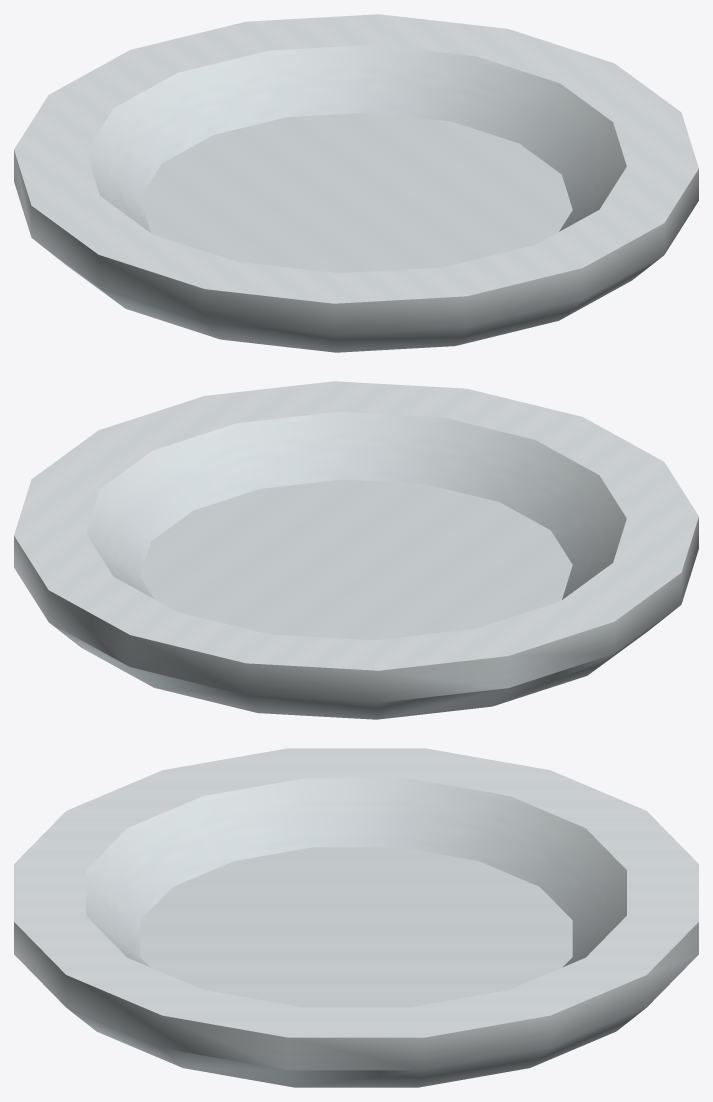
The model's file is plate.gltf.
The picture shows the model from 3 angles, top to bottom: view 1: azimuth 30°, elevation 25°; view 2: azimuth 150°, elevation 25°; view 3: azimuth 270°, elevation 25°; orthographic projection.
Parts seen in each view (by area): view 1: plate; view 2: plate; view 3: plate.
Boxes of the visible parts, x1=… form: plate: x1=14, y1=14, x2=698, y2=352; plate: x1=14, y1=381, x2=698, y2=719; plate: x1=14, y1=748, x2=698, y2=1087.
Bounding box in the file's own units: 0.95 × 0.1 × 0.95.
1 material, 1 textured.
